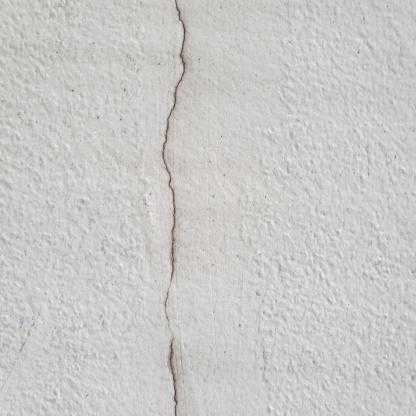crack: (159, 4, 189, 412)
